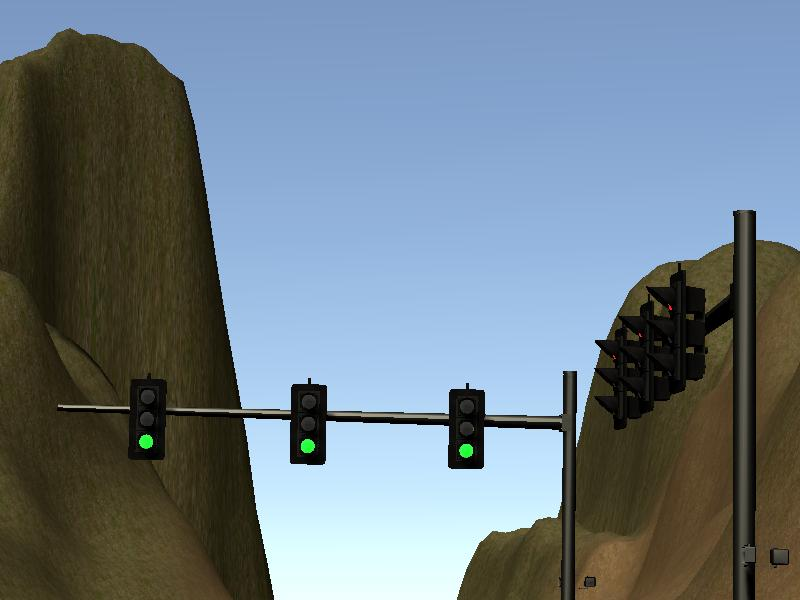Green: (451, 387, 485, 469), (291, 384, 326, 462), (129, 380, 163, 460)
